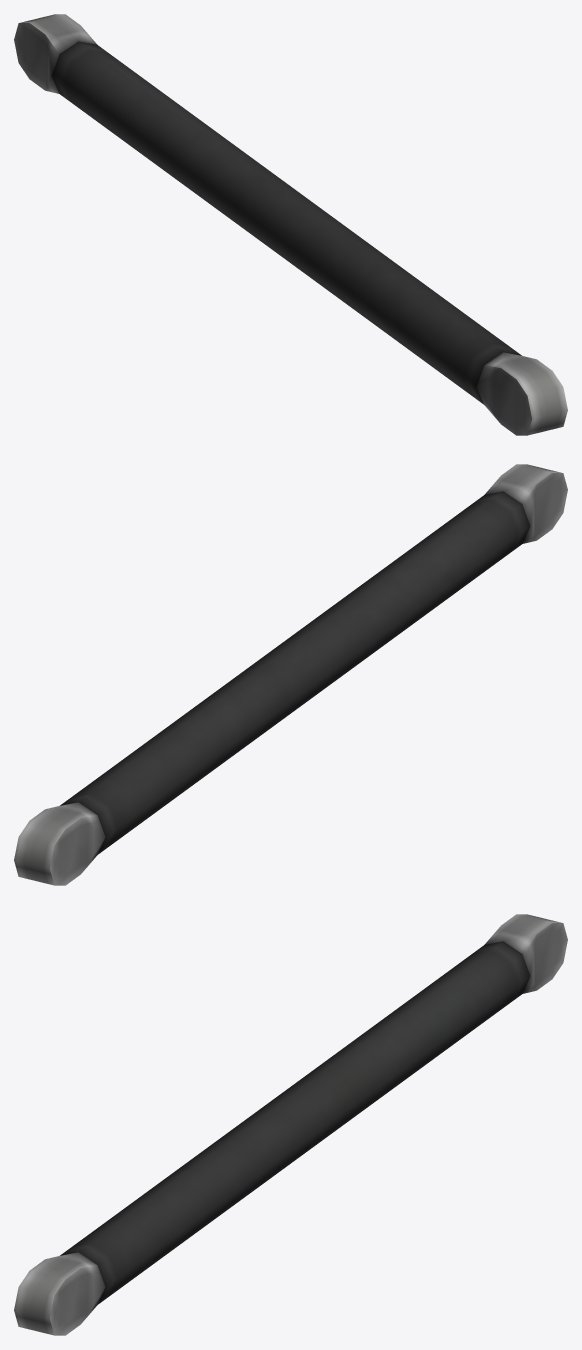
File: 4mv_sensor_magnetometer_srf_1_arm.obj
3 views of the same model, one above another, from view 1: azimuth 30°, elevation 25°; view 2: azimuth 150°, elevation 25°; view 3: azimuth 330°, elevation 25° (orthographic).
Parts seen in each view (by area): view 1: mesh1; view 2: mesh1; view 3: mesh1.
Part boxes in pixels (bbox=[...]): mesh1: bbox=[14, 14, 567, 435]; mesh1: bbox=[14, 464, 567, 885]; mesh1: bbox=[14, 914, 567, 1335].
Bounding box in the file's own units: 0.0375 × 0.0375 × 0.625.
1 material, 1 textured.
